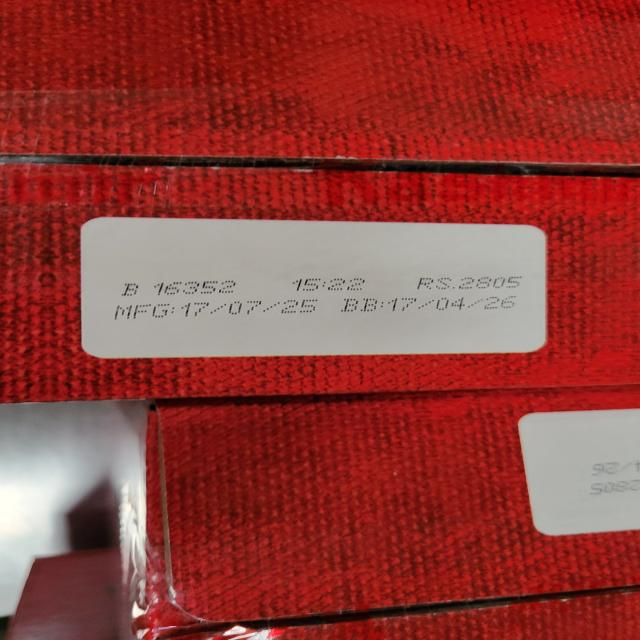BB: (342, 296, 520, 312)
Batch: (120, 280, 238, 296)
MFG: (111, 299, 315, 322)
RS: (415, 276, 524, 290)
TimeStamp: (290, 278, 368, 292)
